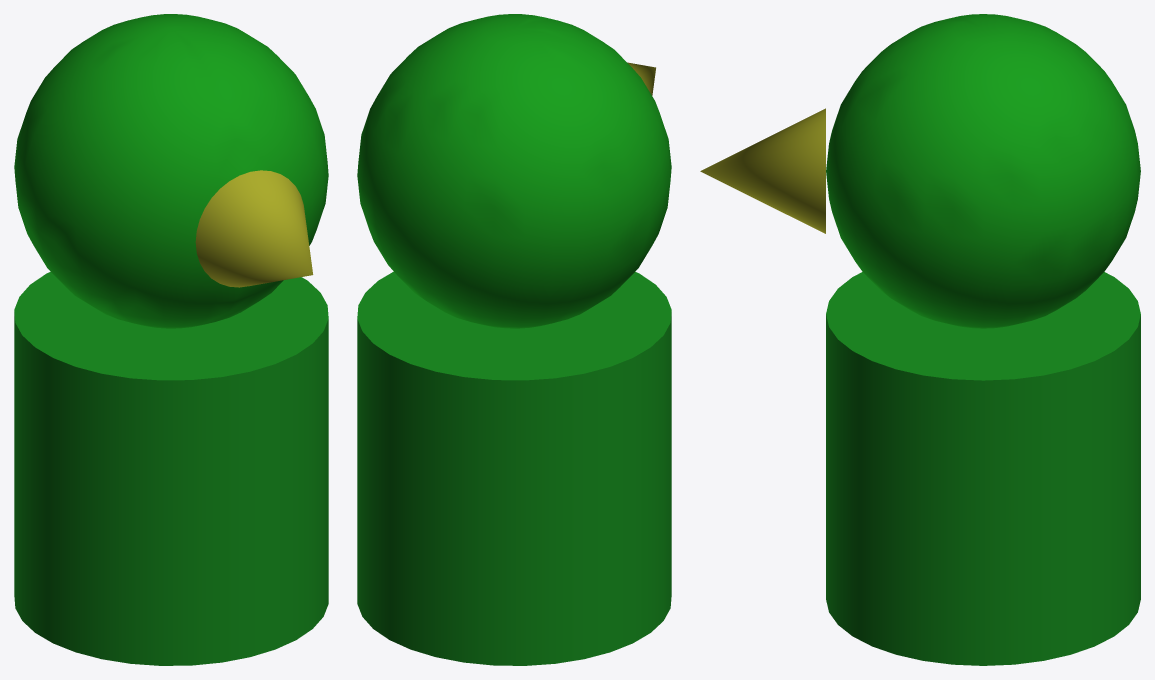
File: player_green.fbx
The picture shows the model from 3 angles, left to right: view 1: azimuth 30°, elevation 25°; view 2: azimuth 150°, elevation 25°; view 3: azimuth 270°, elevation 25°; orthographic projection.
Parts seen in each view (by area): view 1: player:Mesh; view 2: player:Mesh; view 3: player:Mesh.
Boxes of the visible parts, left/top/right/bottom form: player:Mesh: left=14, top=14, right=328, bottom=665; player:Mesh: left=357, top=14, right=671, bottom=665; player:Mesh: left=700, top=14, right=1140, bottom=665.
Size of the model in its own units: 1 by 2 by 1.4.
